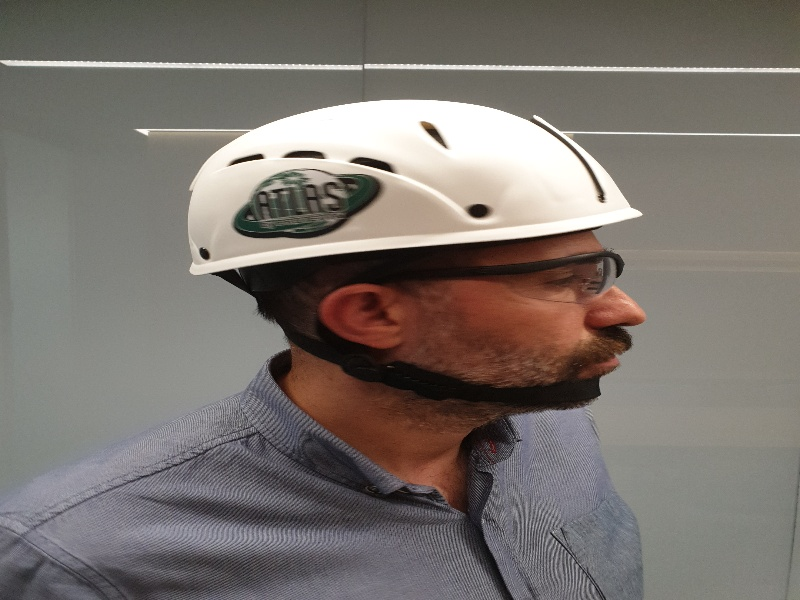Baret: (189, 100, 650, 273)
Gozluk: (408, 251, 620, 304)
